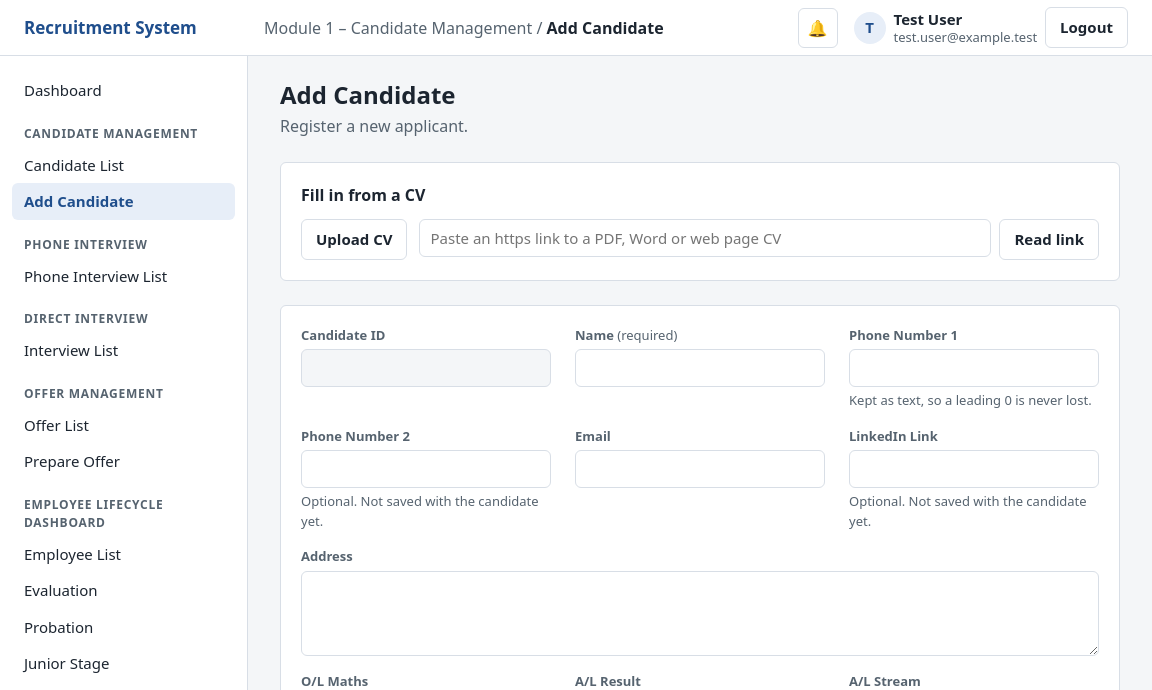
Scenario: reading a CV link with the Read link button › the saved candidate carries the link
Expected: the file field labelled "Upload CV" is shown, [301,219,408,260]
Type "https://cv.example.test/anusha.pdf" into the field named "CV link" at (706, 238), box [420,219,992,257]
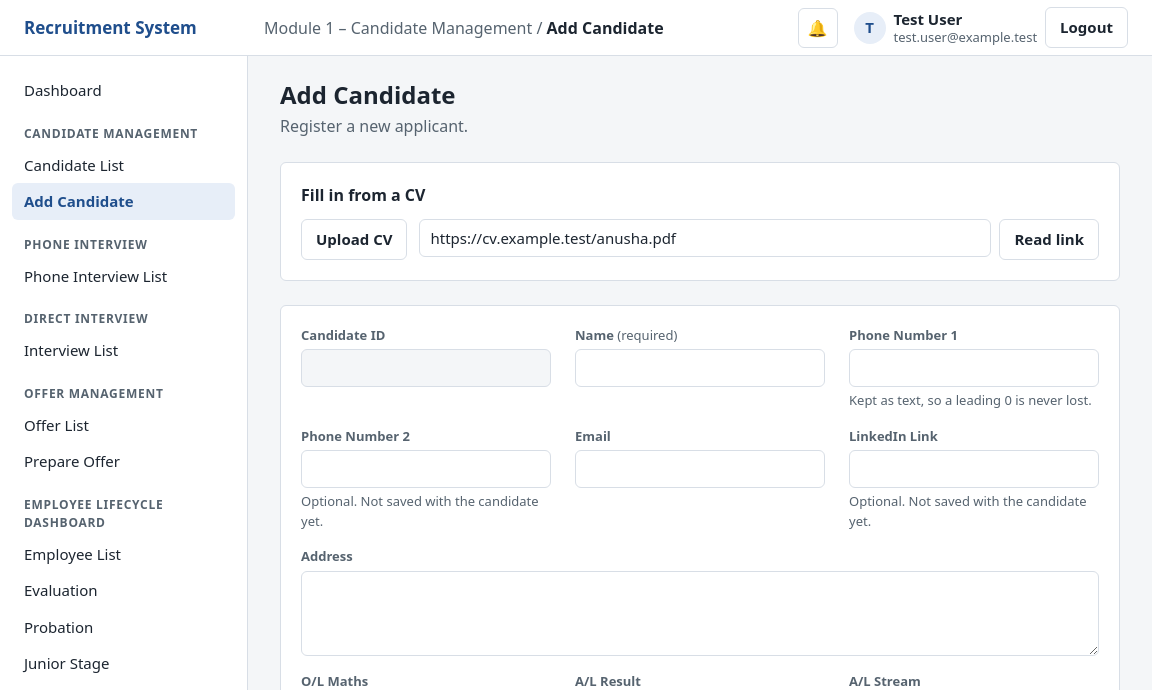
Click the button "Read link" at (1049, 239), box [1000,219,1099,260]
(page scrolled)
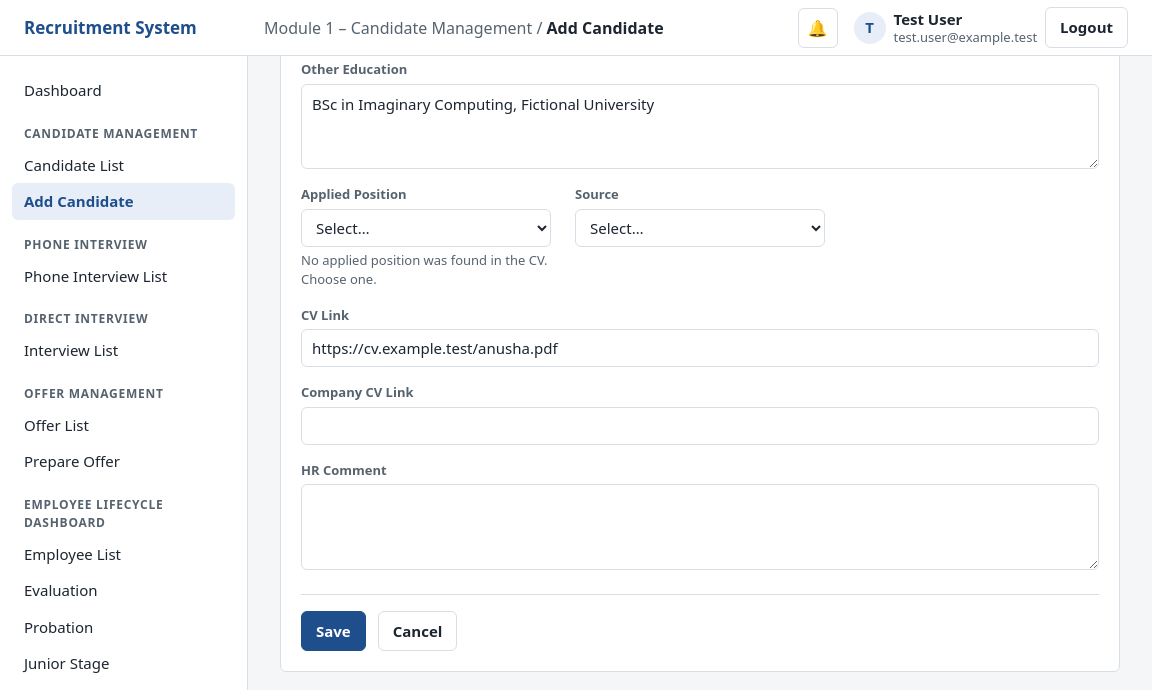
Click the button "Save" at (333, 631), box [301,610,366,651]
(page scrolled)
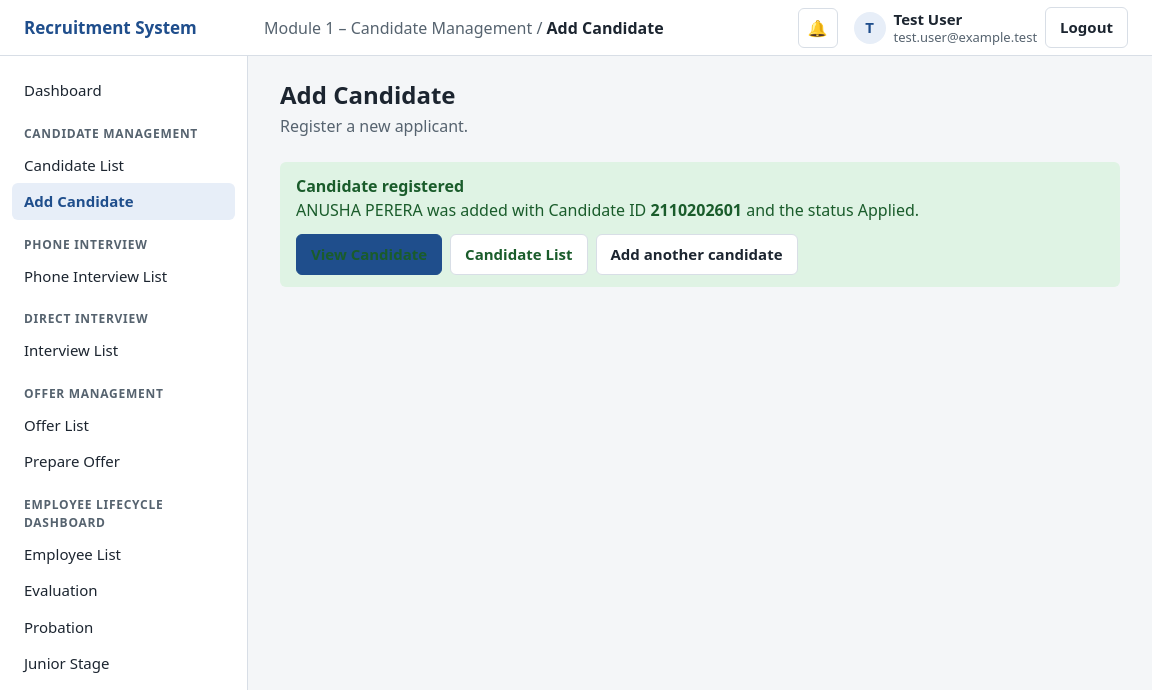
Result: the text "Candidate registered" is shown at [296,175,464,197]
